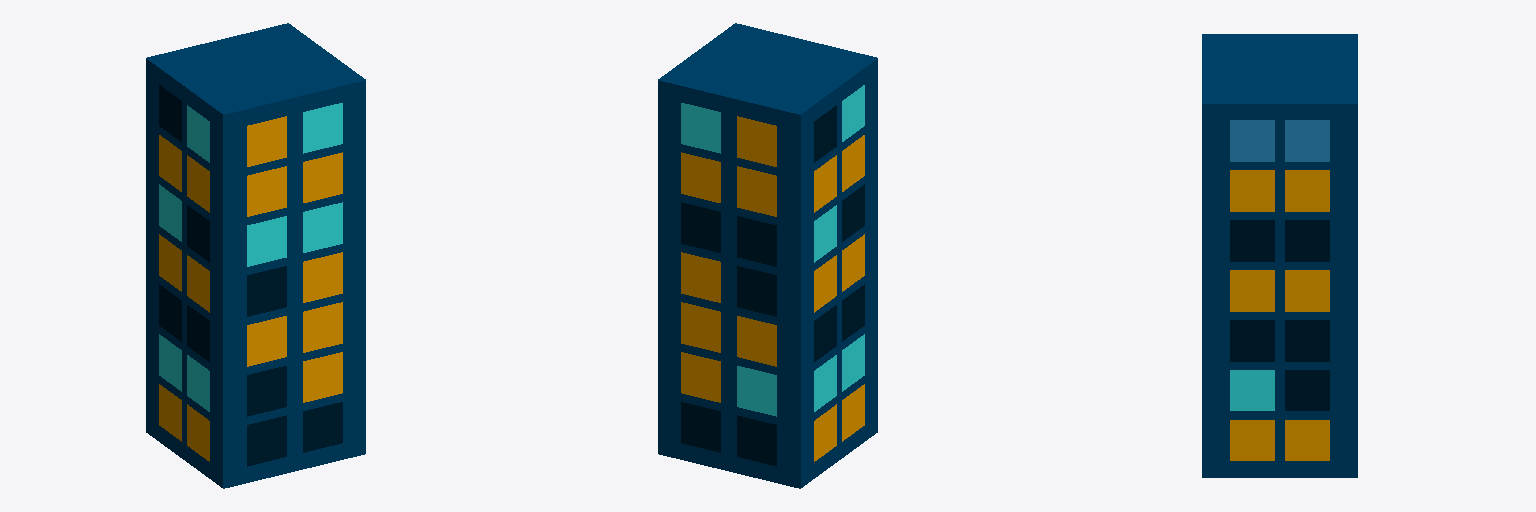
3 views of the same model, side by side, from view 1: azimuth 30°, elevation 25°; view 2: azimuth 150°, elevation 25°; view 3: azimuth 270°, elevation 25° (orthographic).
Size of the model in its own units: 18 by 45 by 17.
Materials: 1 (1 with a texture image).